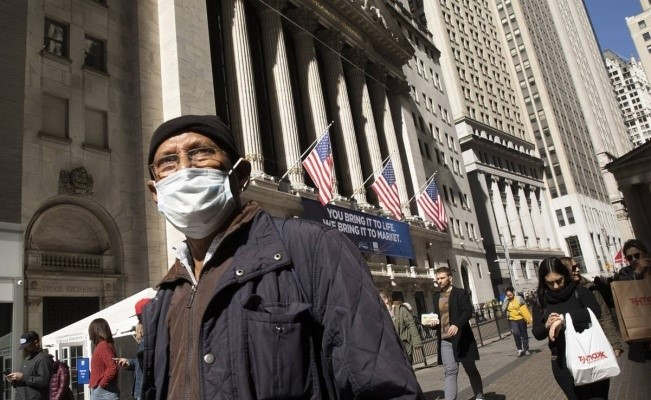face_no_mask: (538, 256, 566, 291), (433, 267, 455, 292)
face_with_mask: (137, 111, 250, 248)
